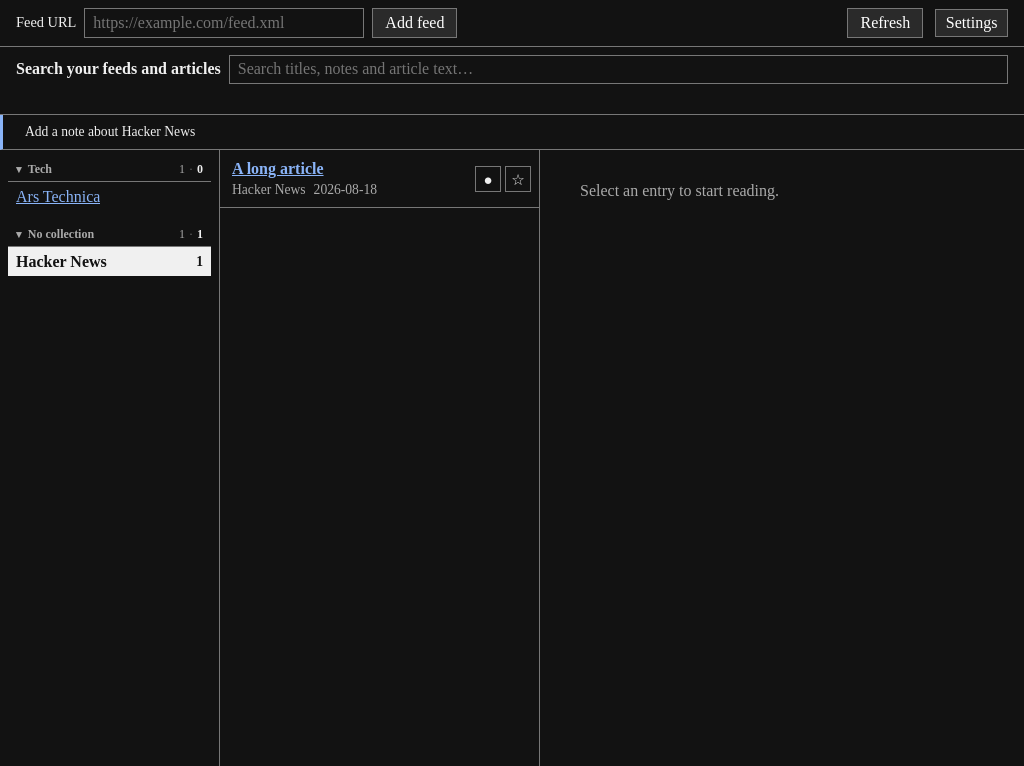
Test case: App › content pagination (navMode=paginated, the reading pane's body split into pages) › does not paginate the pane content when navMode is auto
Click the button "A long article Hacker News 2026-08-18": (380, 179) [220,150,539,208]
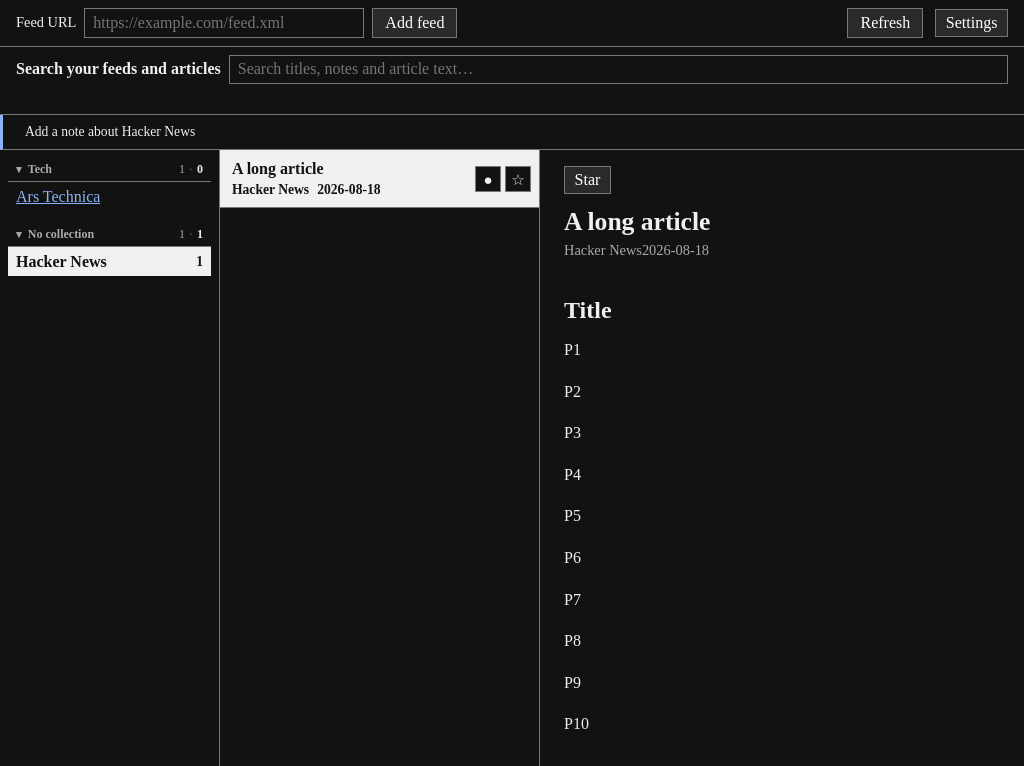
Expected: the text "P10" is shown, [564,715,589,732]
